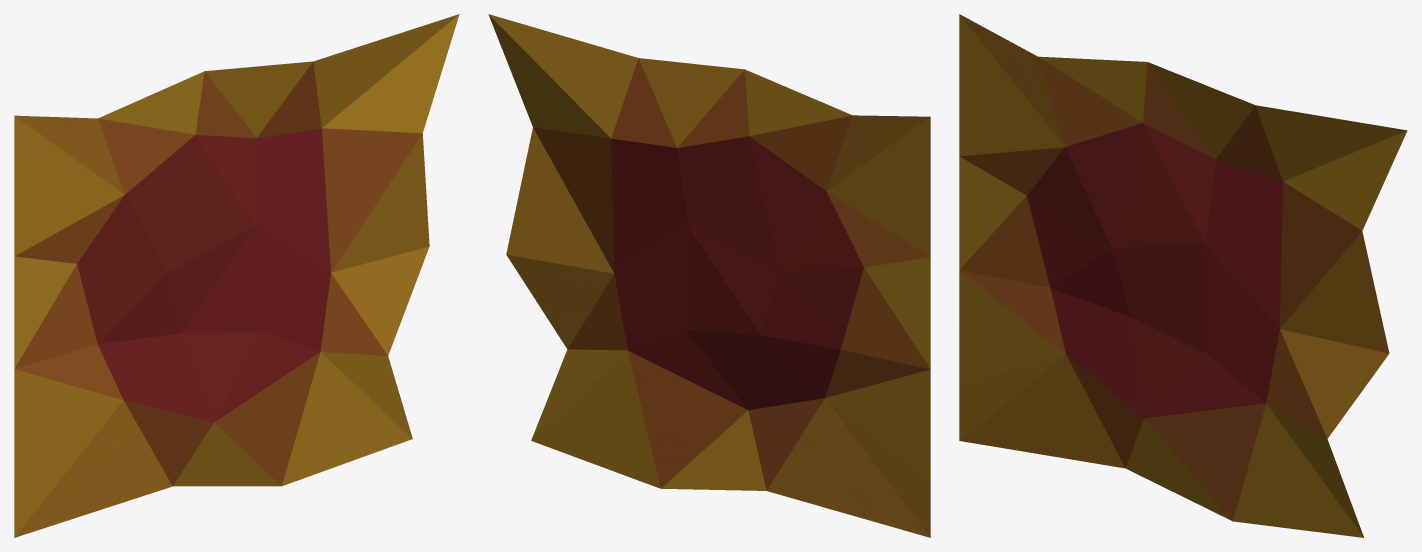
File: Prop_FlagC.fbx
3 views of the same model, side by side, from view 1: azimuth 30°, elevation 25°; view 2: azimuth 150°, elevation 25°; view 3: azimuth 330°, elevation 25° (orthographic).
Parts seen in each view (by area): view 1: Prop_FlagC; view 2: Prop_FlagC; view 3: Prop_FlagC.
Boxes of the visible parts, x1,y1,x2,y2 form: Prop_FlagC: [14, 14, 459, 537]; Prop_FlagC: [488, 14, 930, 537]; Prop_FlagC: [959, 14, 1407, 537].
Size of the model in its own units: 138 by 129 by 8.03.
